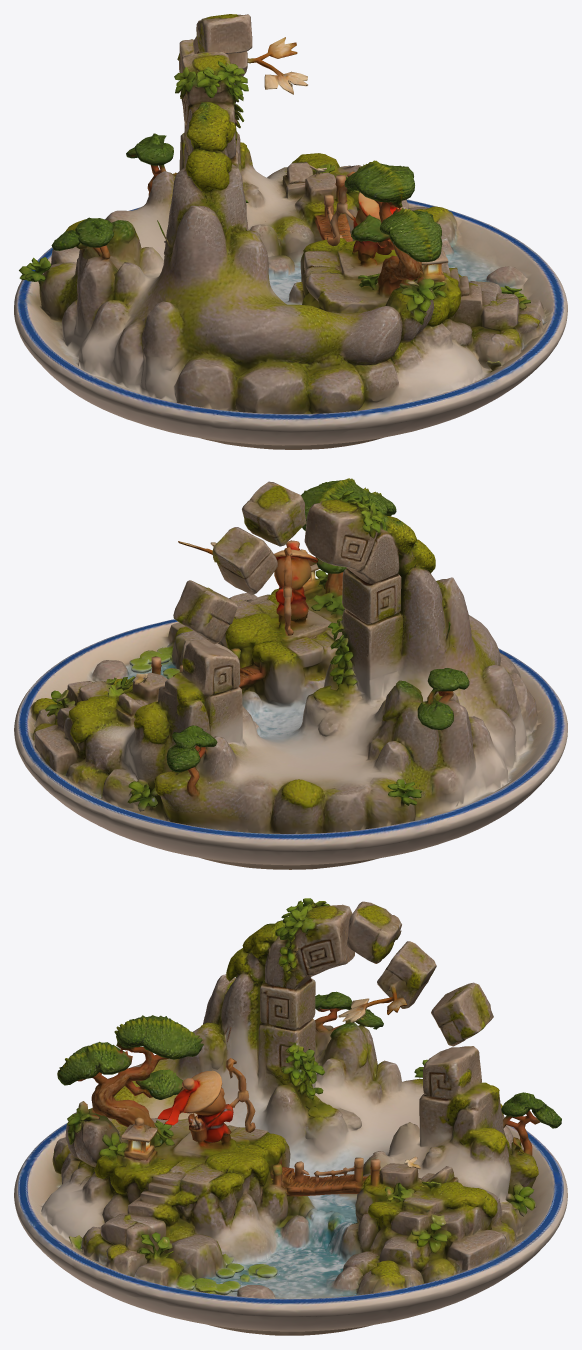
The model's file is recurve.glb.
3 views of the same model, one above another, from view 1: azimuth 30°, elevation 25°; view 2: azimuth 150°, elevation 25°; view 3: azimuth 270°, elevation 25° (orthographic).
Visible parts, largest first — view 1: tripo_node_c54e0d64-006d-4c22-8886-039481941b79; view 2: tripo_node_c54e0d64-006d-4c22-8886-039481941b79; view 3: tripo_node_c54e0d64-006d-4c22-8886-039481941b79.
Part boxes in pixels (left/top/right/bottom): tripo_node_c54e0d64-006d-4c22-8886-039481941b79: left=14, top=14, right=567, bottom=449; tripo_node_c54e0d64-006d-4c22-8886-039481941b79: left=14, top=478, right=567, bottom=869; tripo_node_c54e0d64-006d-4c22-8886-039481941b79: left=14, top=898, right=567, bottom=1335.
Size of the model in its own units: 0.9977 by 0.694 by 1.
1 material, 1 textured.
